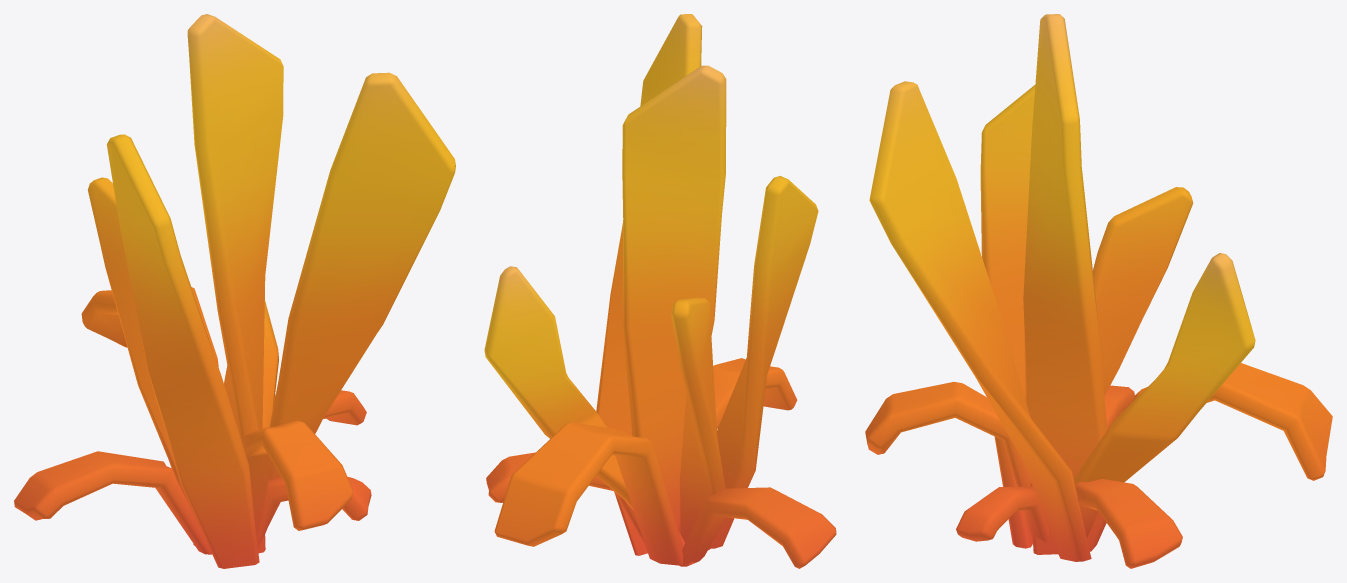
File: candy-spike-b.glb
3 renders of one model, left to right at view 1: azimuth 30°, elevation 25°; view 2: azimuth 150°, elevation 25°; view 3: azimuth 270°, elevation 25°, orthographic. The views are drawn at different scales.
Visible parts, largest first — view 1: Plant.053; view 2: Plant.053; view 3: Plant.053.
Boxes of the visible parts, x1=… form: Plant.053: x1=14, y1=14, x2=455, y2=568; Plant.053: x1=484, y1=14, x2=836, y2=568; Plant.053: x1=865, y1=14, x2=1332, y2=568.
Size of the model in its own units: 596 by 863 by 703.
1 material, 1 textured.
